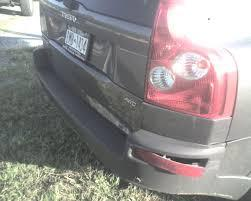rear-bumper-dent: (71, 107, 245, 189)
